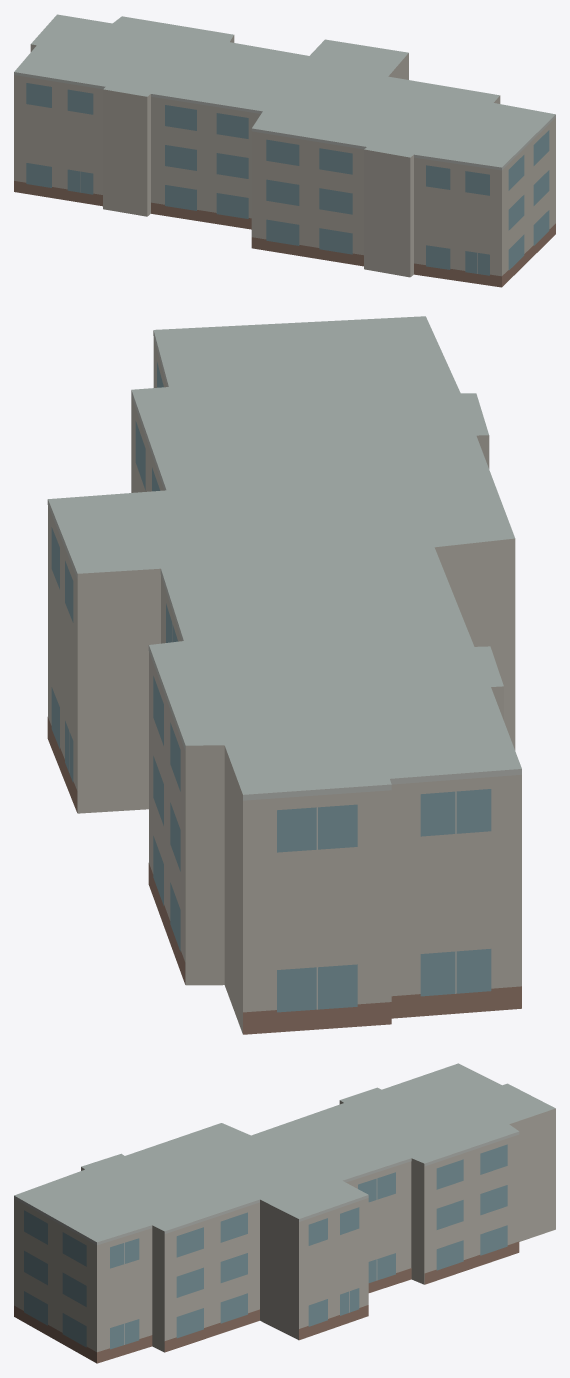
The model's file is survey-upis-32591654.glb.
3 views of the same model, one above another, from view 1: azimuth 30°, elevation 25°; view 2: azimuth 150°, elevation 25°; view 3: azimuth 270°, elevation 25° (orthographic). The views are drawn at different scales.
Parts seen in each view (by area): view 1: survey-upis-32591654.tmp; view 2: survey-upis-32591654.tmp; view 3: survey-upis-32591654.tmp.
Part boxes in pixels (<box>): survey-upis-32591654.tmp: <box>14,14,555,287</box>; survey-upis-32591654.tmp: <box>47,316,521,1034</box>; survey-upis-32591654.tmp: <box>14,1063,555,1363</box>.
Size of the model in its own units: 31.66 by 9.99 by 40.49.
